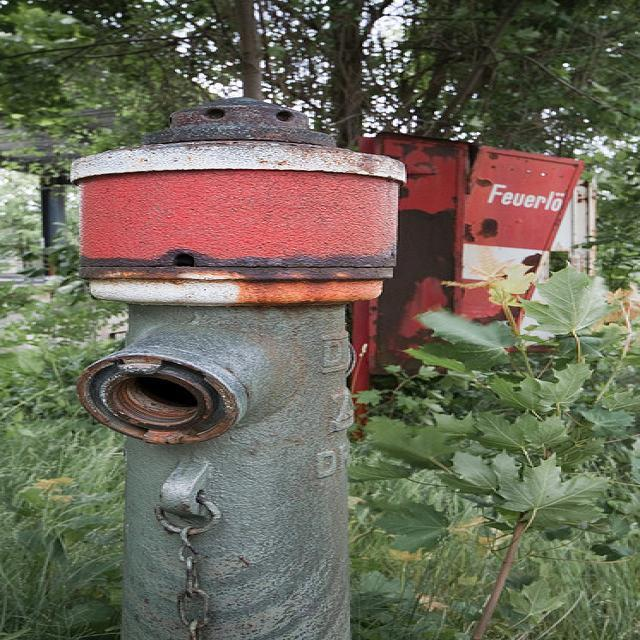fire_hydrant: (64, 105, 398, 629)
